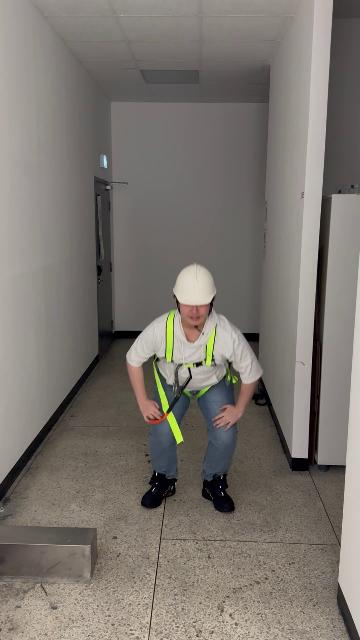helmet_worn: (172, 262, 218, 304)
shoe_worn: (140, 470, 177, 509), (201, 473, 235, 512)
vest_worn: (149, 311, 231, 441)
